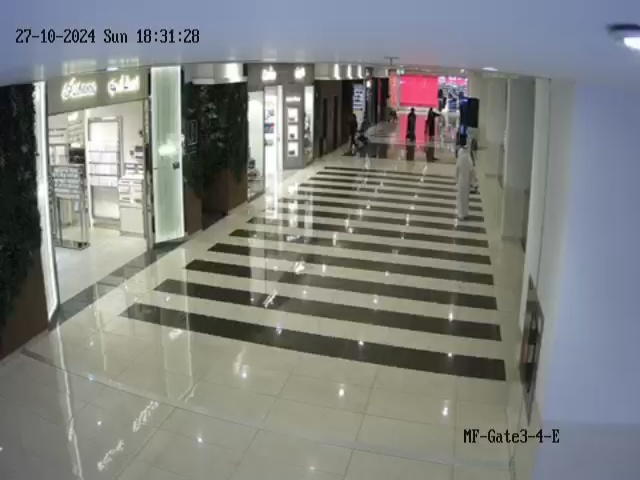female: (403, 101, 419, 146), (424, 107, 441, 142), (348, 112, 358, 151)
male: (452, 142, 478, 223)
